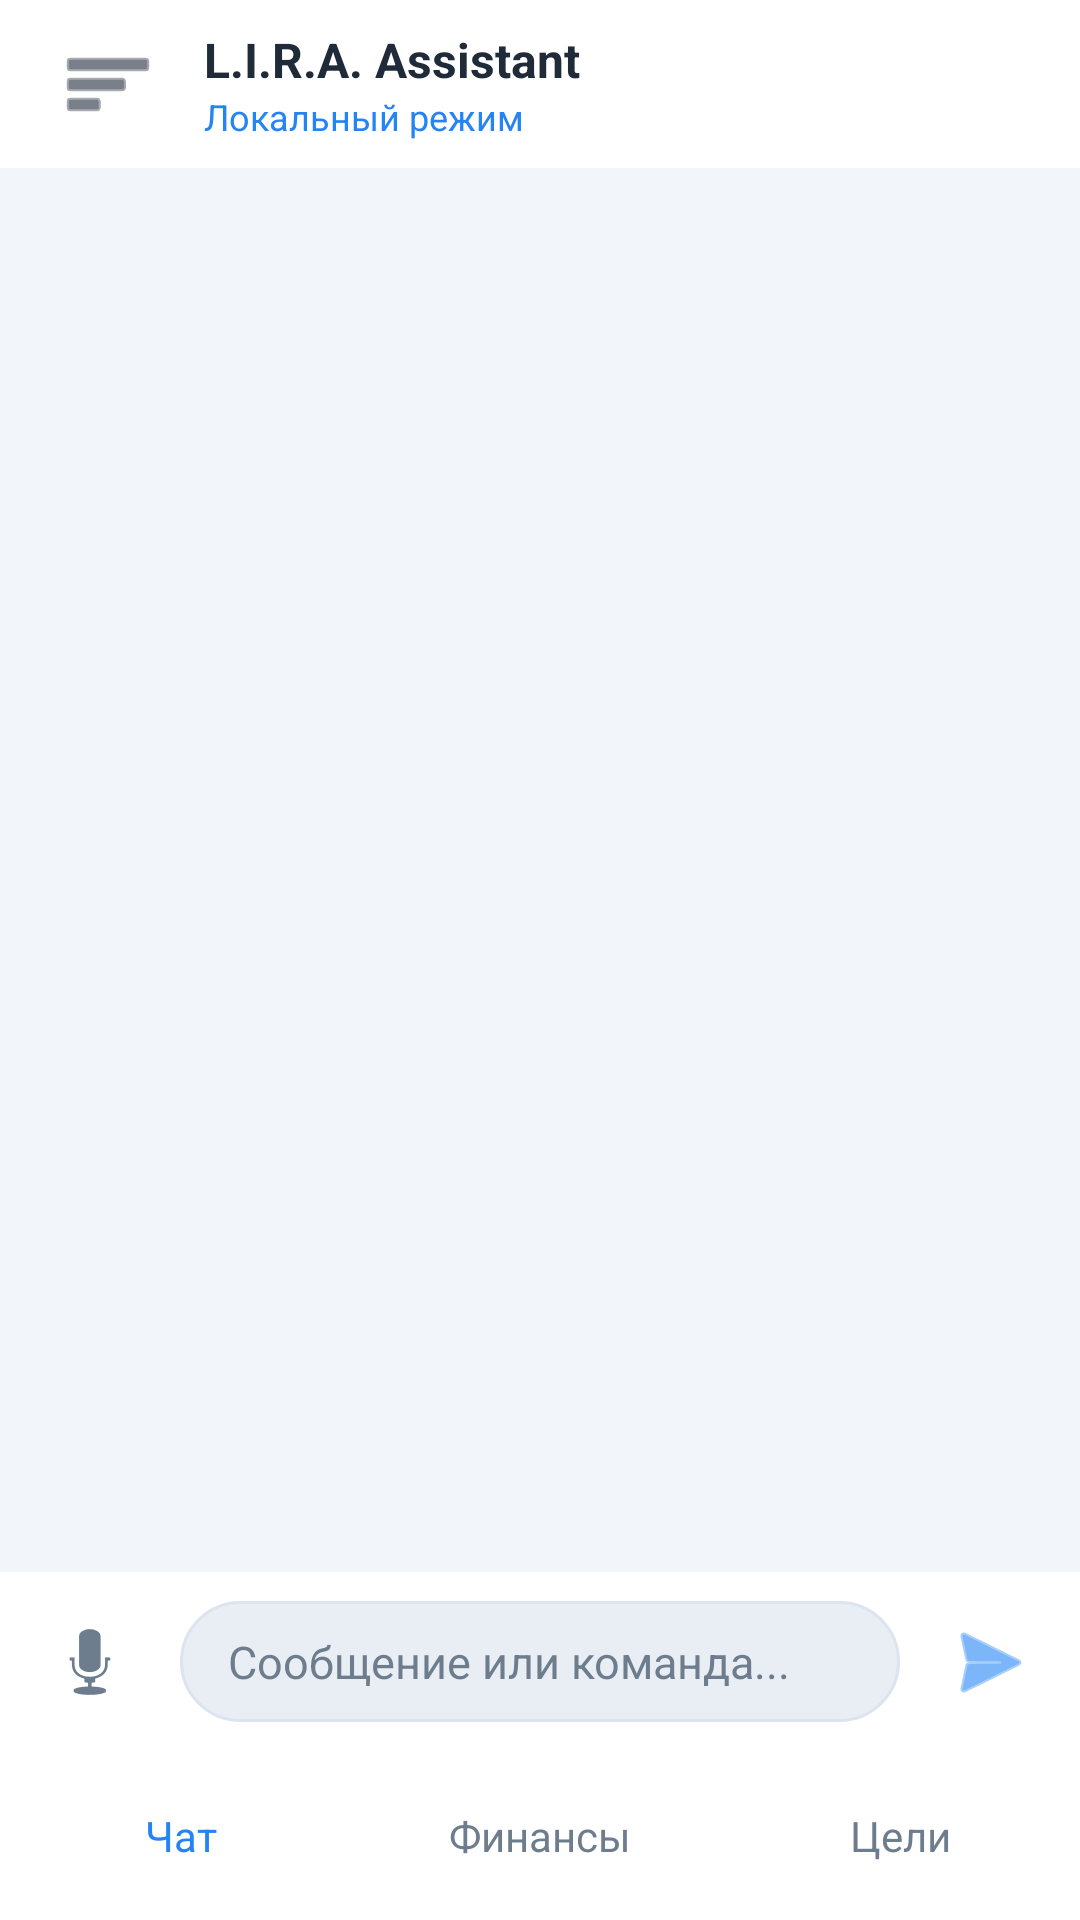

Point at icon controls on the screen. Image size 1080 × 1920, points as (x=x, y=y).
Голосовой ввод: (x=90, y=1662)
Меню: (x=108, y=84)
Отправить: (x=991, y=1662)
